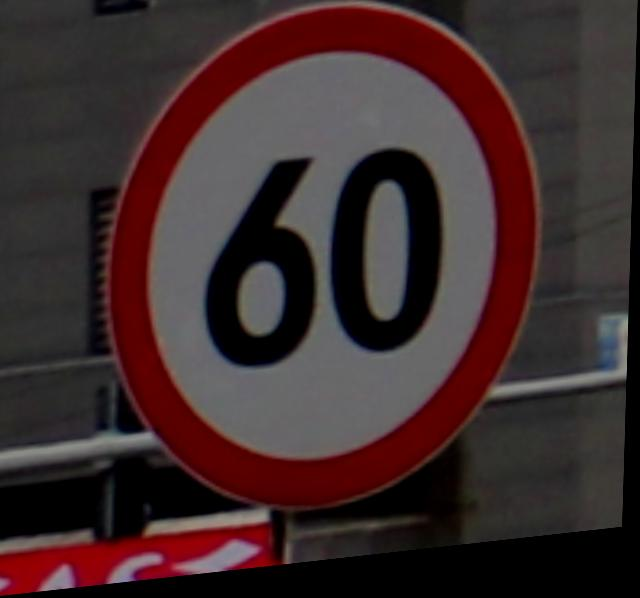limit60: (92, 0, 559, 544)
